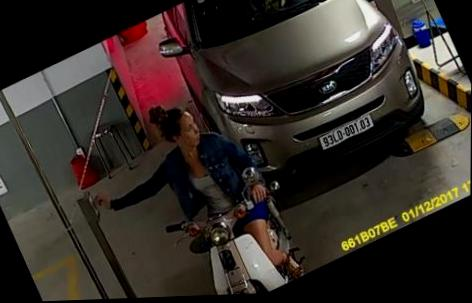License_Plate: (313, 112, 380, 150)
